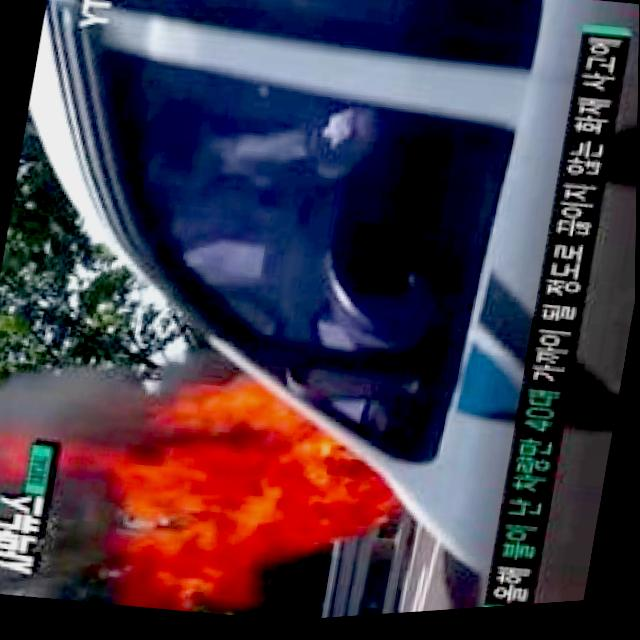helmet: (102, 349, 427, 634), (46, 423, 128, 523), (0, 427, 29, 493)
no_helmet: (0, 345, 137, 436)
